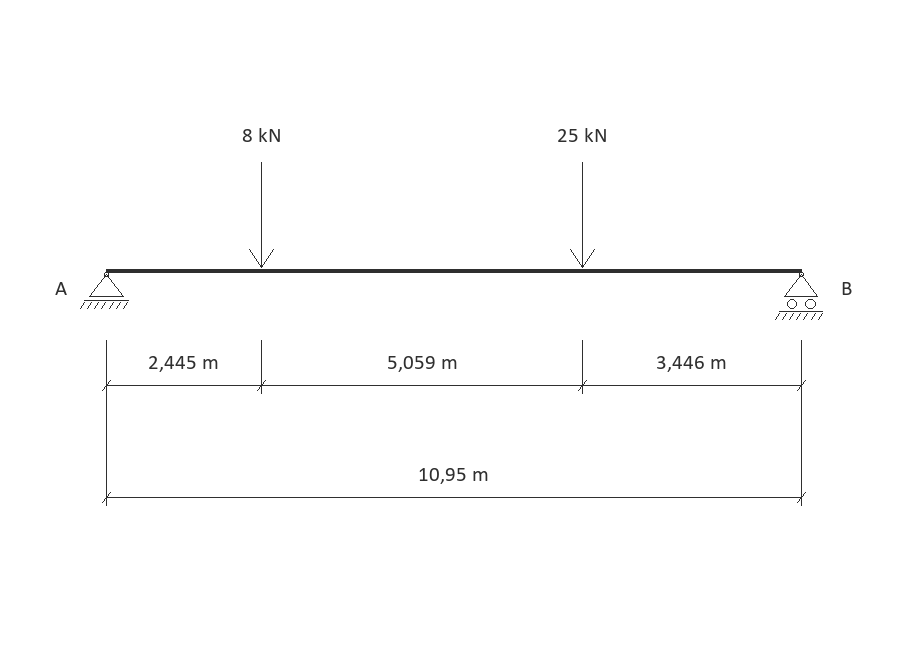pin_support: (80, 272, 129, 309)
point_load: (249, 162, 274, 268), (570, 162, 595, 268)
roller_support: (775, 272, 823, 320)
